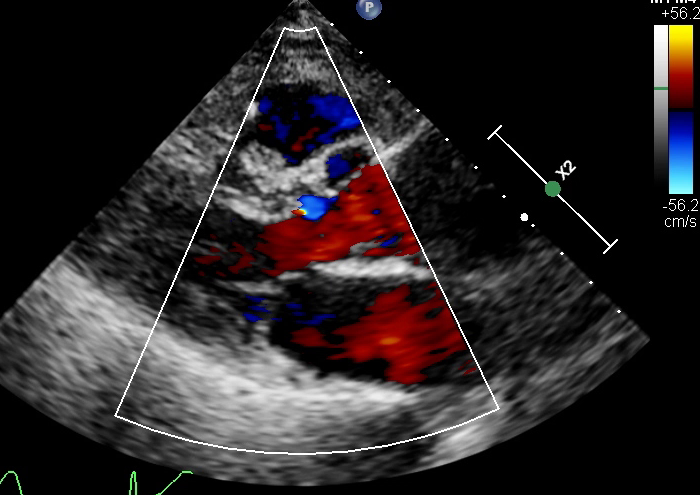AR: (247, 188, 381, 288)
